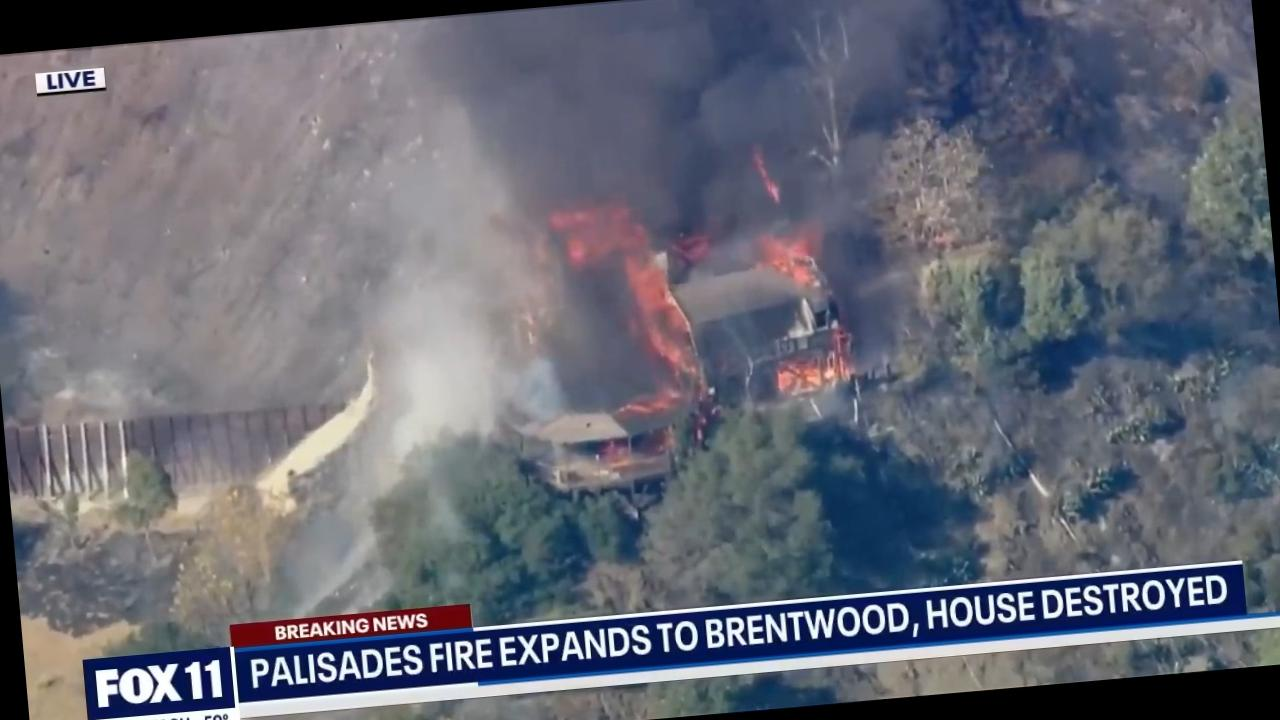Smoke: (498, 0, 920, 236)
